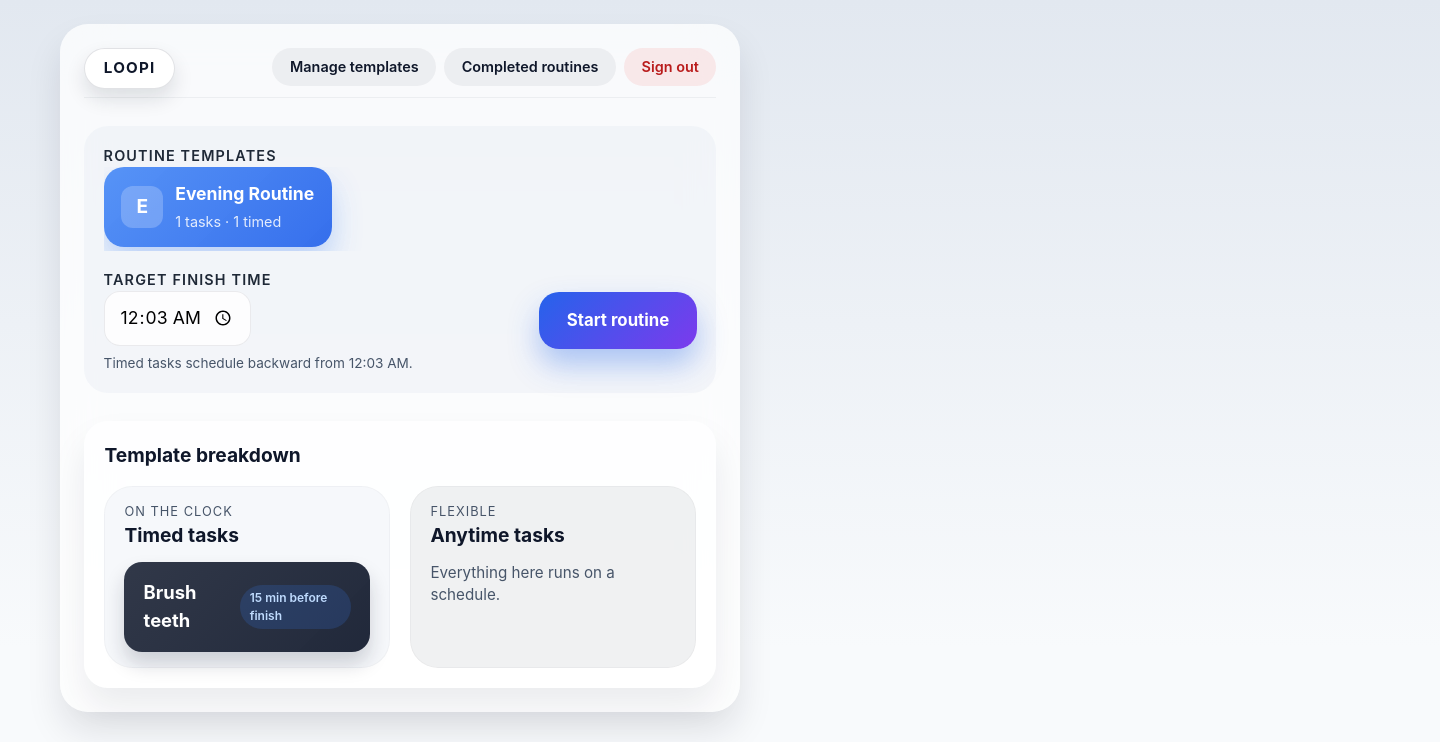
App routine board states › opens the template editor when Manage templates is clicked
This screenshot has width=1440, height=742.
Click the button "Manage templates" at (354, 67), box [272,48,436,86]
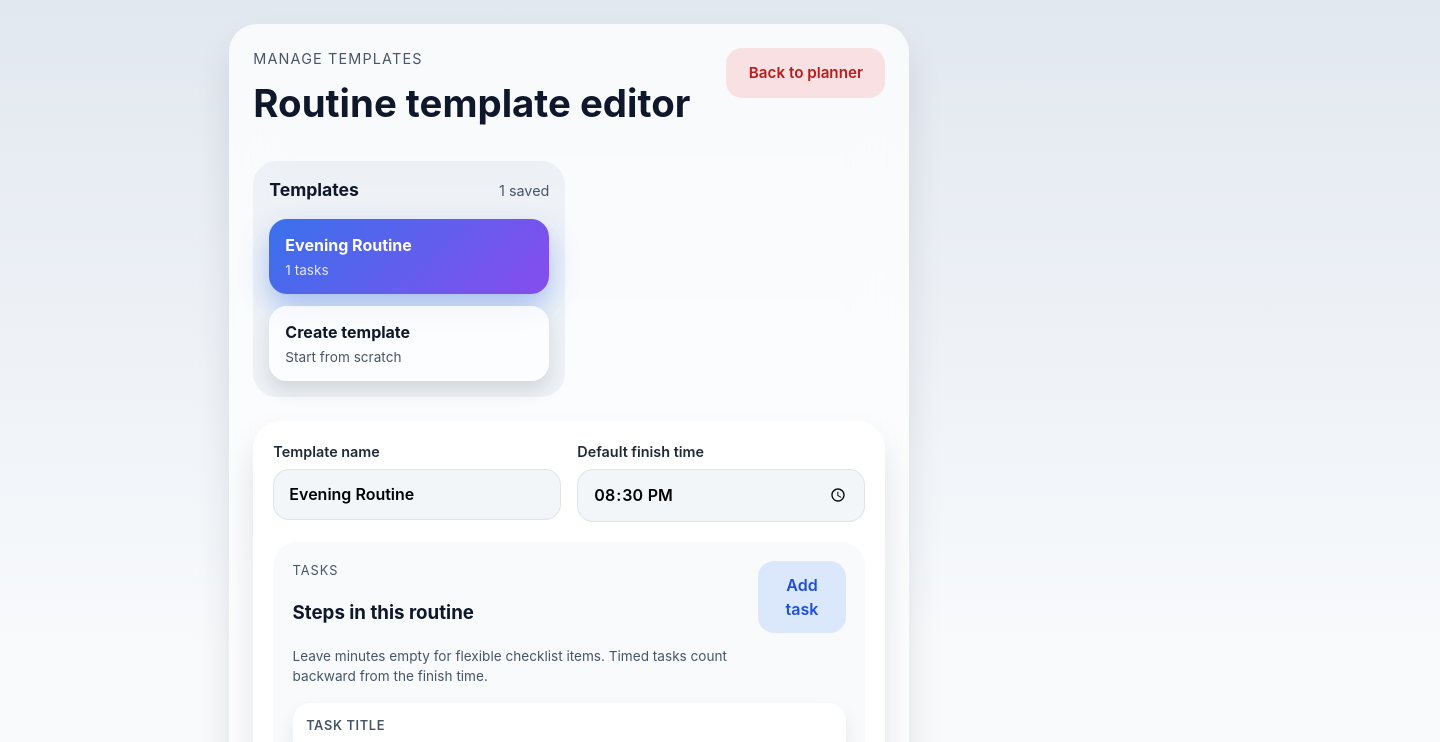
Result: the heading "Routine template editor" is shown at [253,75,690,133]
